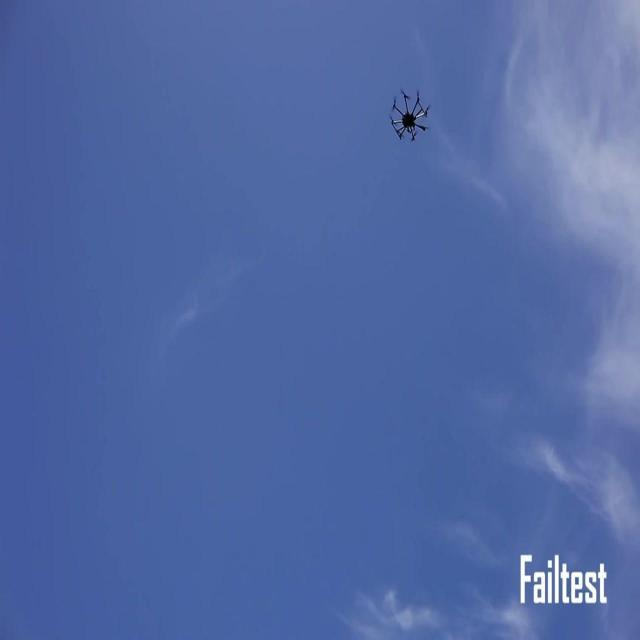UAV: (389, 89, 431, 142)
